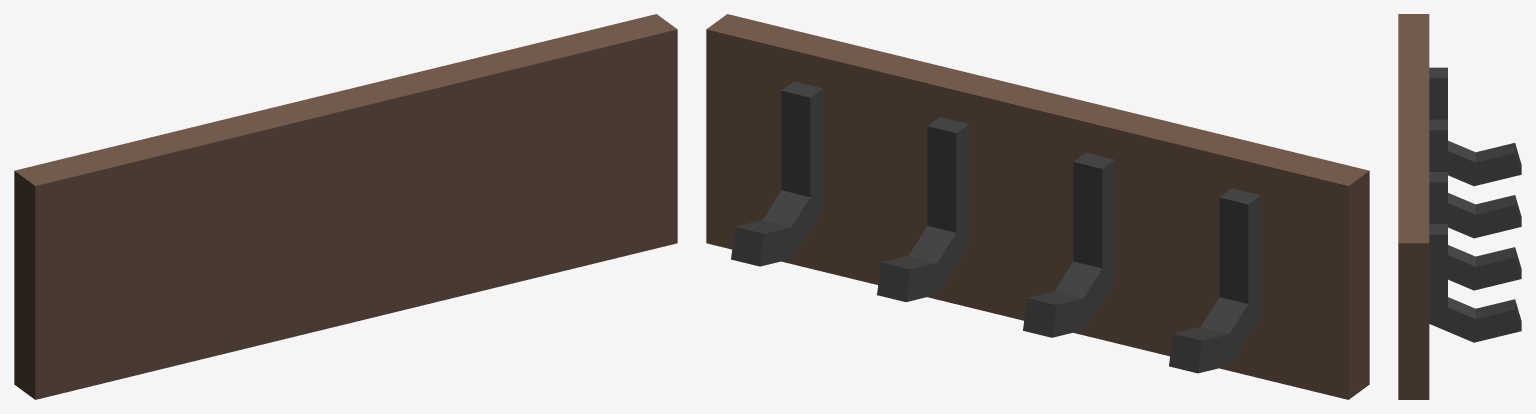
Rendered from coat hooks.fbx.
The picture shows the model from 3 angles, left to right: view 1: azimuth 30°, elevation 25°; view 2: azimuth 150°, elevation 25°; view 3: azimuth 270°, elevation 25°; orthographic projection. The views are drawn at different scales.
Visible parts, largest first — view 1: cube; view 2: cube, cube_4, cube_3, cube_1, cube_2, cube_10, cube_9, cube_12, cube_11, cube_6, cube_5, cube_7 (+1 smaller); view 3: cube, cube_3, cube_9, cube_10, cube_11, cube_12, cube_1, cube_2, cube_4, cube_8, cube_7, cube_5 (+1 smaller).
Part boxes in pixels (left/top/right/bottom): cube: left=14, top=14, right=677, bottom=399; cube: left=706, top=14, right=1369, bottom=399; cube_4: left=927, top=117, right=968, bottom=255; cube_3: left=781, top=81, right=822, bottom=219; cube_1: left=1219, top=188, right=1260, bottom=326; cube_2: left=1073, top=152, right=1114, bottom=280; cube_10: left=877, top=256, right=942, bottom=301; cube_9: left=731, top=220, right=796, bottom=266; cube_12: left=1169, top=327, right=1233, bottom=373; cube_11: left=1023, top=291, right=1084, bottom=337; cube_6: left=1054, top=260, right=1114, bottom=329; cube_5: left=1200, top=295, right=1260, bottom=364; cube_7: left=908, top=226, right=968, bottom=293; cube: left=1398, top=14, right=1429, bottom=399; cube_3: left=1429, top=224, right=1447, bottom=323; cube_9: left=1467, top=299, right=1521, bottom=342; cube_10: left=1467, top=247, right=1521, bottom=290; cube_11: left=1467, top=195, right=1521, bottom=238; cube_12: left=1467, top=143, right=1521, bottom=186; cube_1: left=1429, top=67, right=1447, bottom=119; cube_2: left=1429, top=119, right=1447, bottom=171; cube_4: left=1429, top=172, right=1447, bottom=223; cube_8: left=1430, top=297, right=1475, bottom=342; cube_7: left=1448, top=245, right=1475, bottom=290; cube_5: left=1448, top=140, right=1475, bottom=185.
Size of the model in its own units: 27.5 by 8.75 by 6.23.
Materials: 1 (1 with a texture image).
